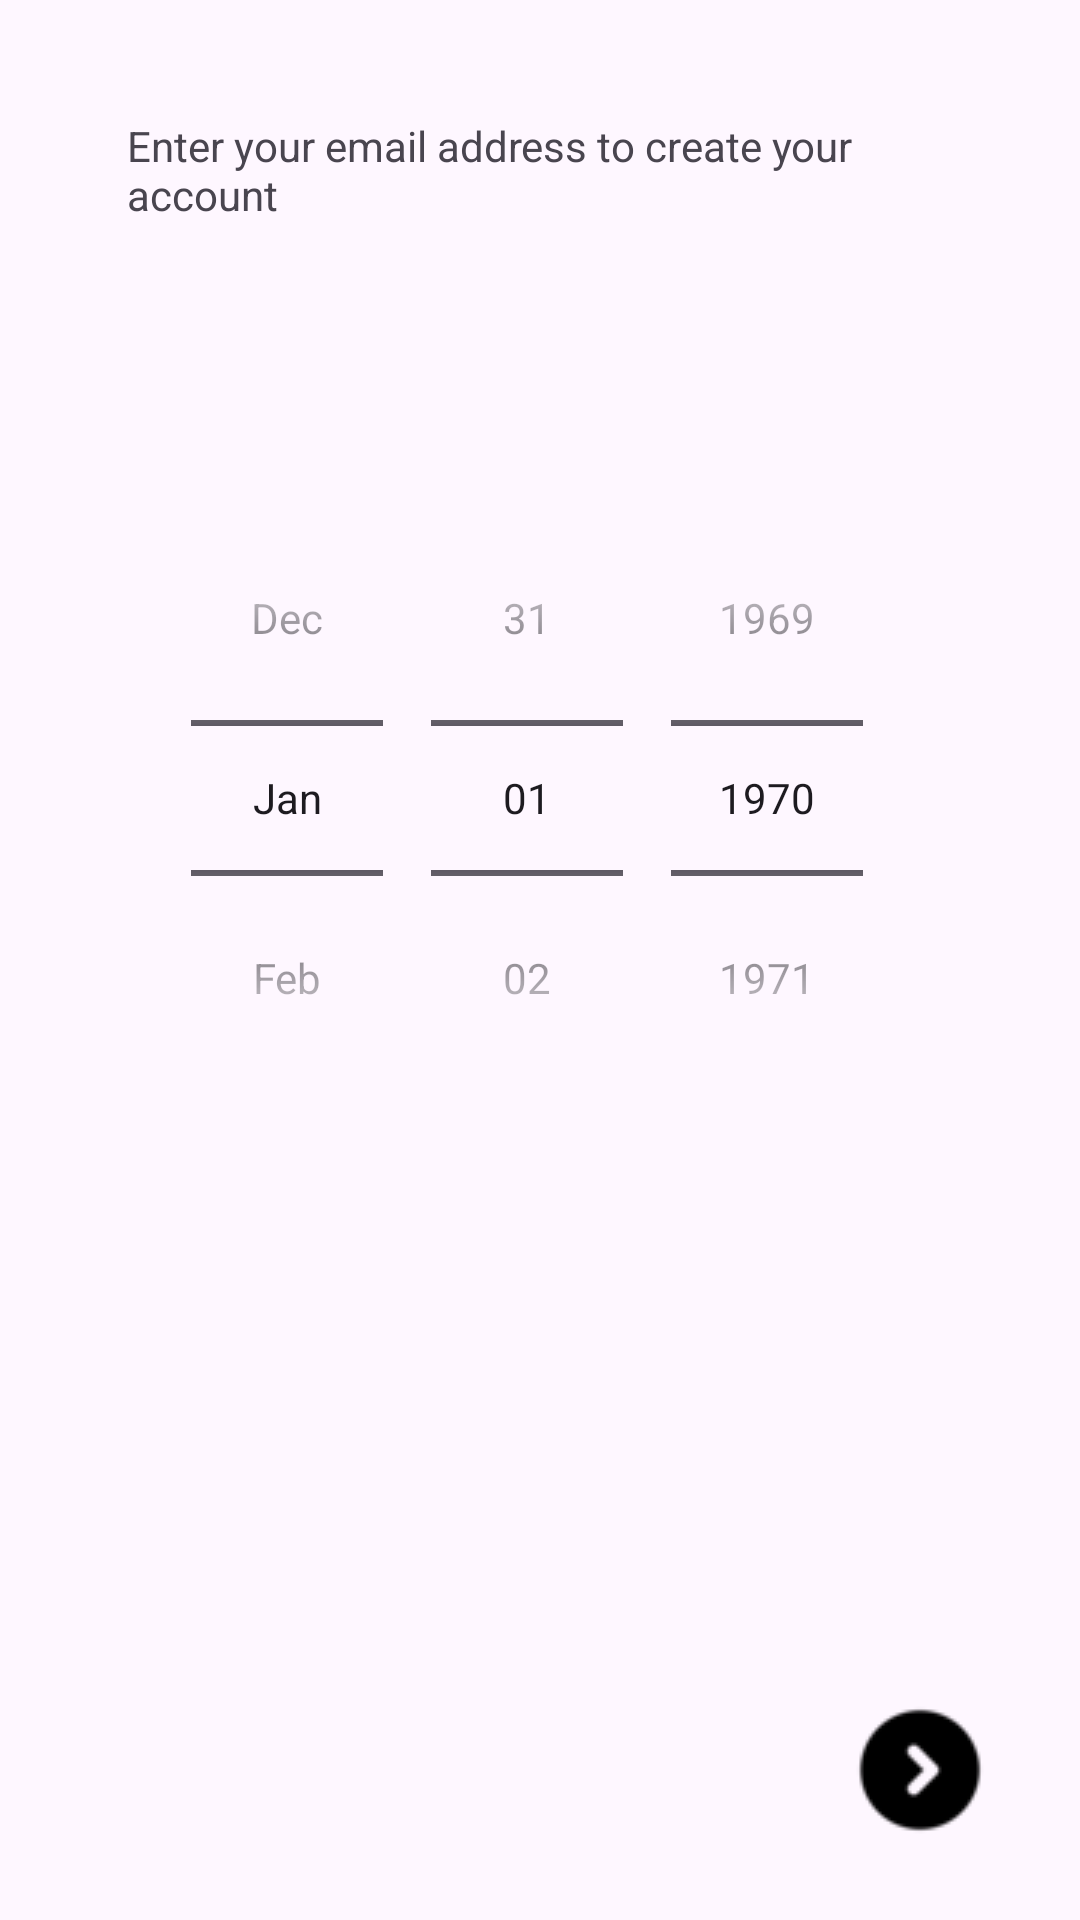

Where to tap for icons on this 1080 x 1920 app screen, as [x,y]:
arrow: [920,1770]
